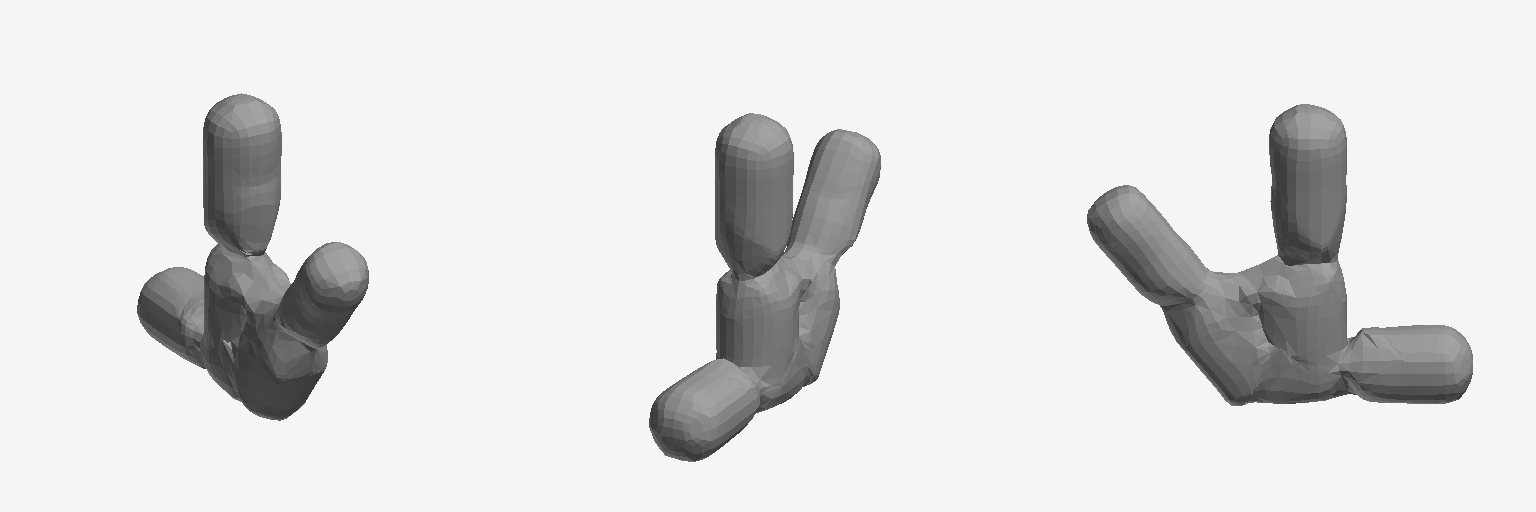
The model's file is 4hAnd.obj.
3 views of the same model, side by side, from view 1: azimuth 30°, elevation 25°; view 2: azimuth 150°, elevation 25°; view 3: azimuth 270°, elevation 25° (orthographic).
Parts seen in each view (by area): view 1: Cube.001; view 2: Cube.001; view 3: Cube.001.
Part boxes in pixels (left/top/right/bottom): Cube.001: left=137, top=93, right=368, bottom=420; Cube.001: left=649, top=113, right=880, bottom=461; Cube.001: left=1087, top=104, right=1472, bottom=405.
Size of the model in its own units: 1.95 by 8.06 by 9.55.